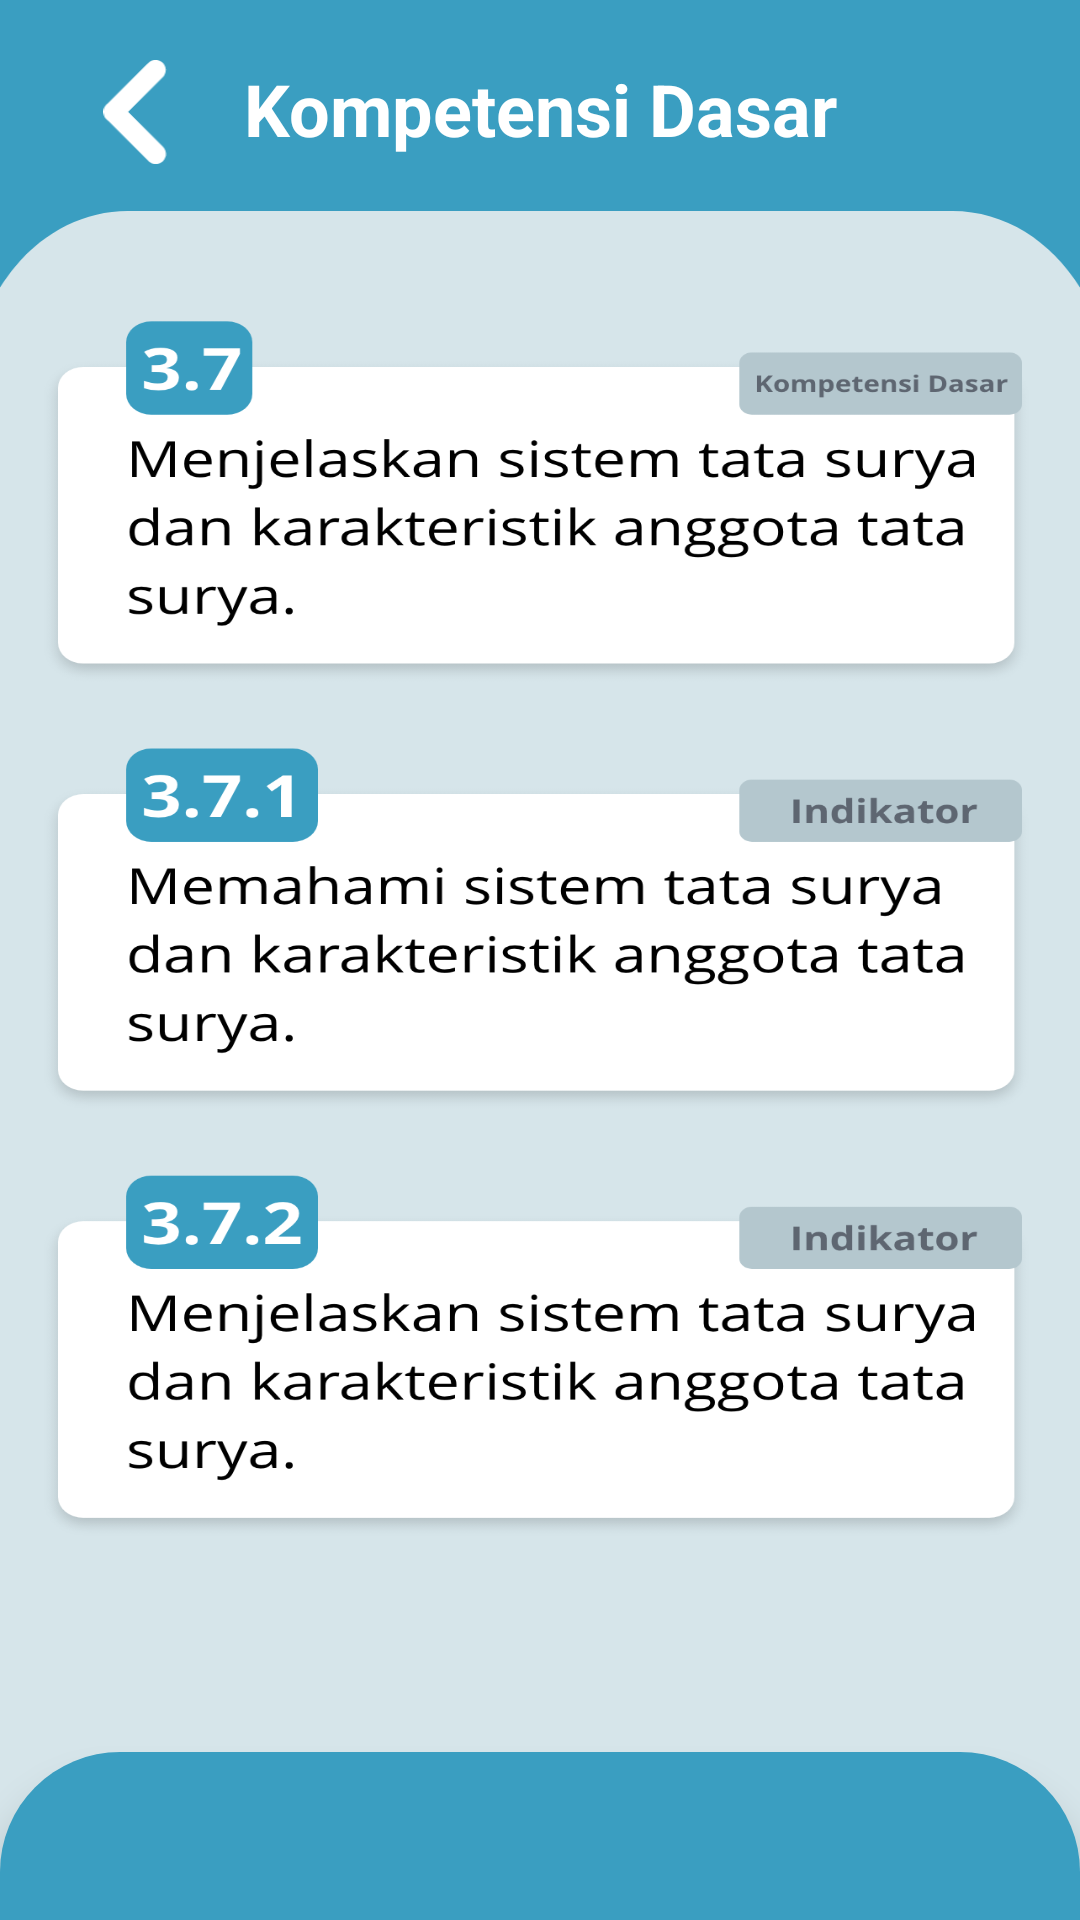

Icons on this 1080x1920 Android screen, each with its box as region(x1, y1, x2, y2):
back: region(103, 60, 167, 164)
